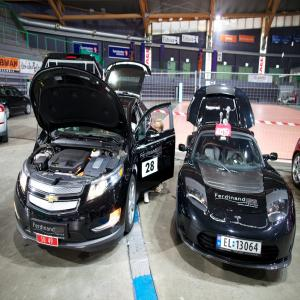Vehicle-registration-plate: (216, 235, 264, 255), (38, 234, 60, 248)
